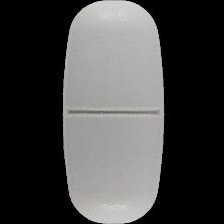63187-488: (0, 0, 224, 224)
